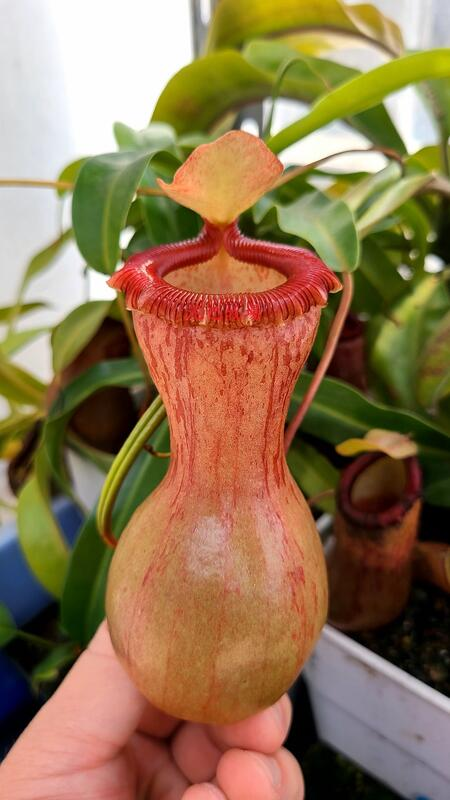ventricosa: (77, 100, 362, 751)
